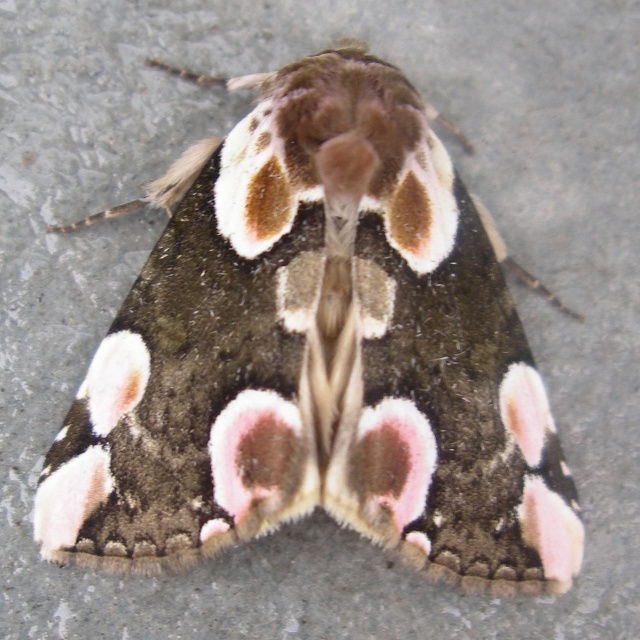Moths and butterflies: (26, 30, 592, 606)
